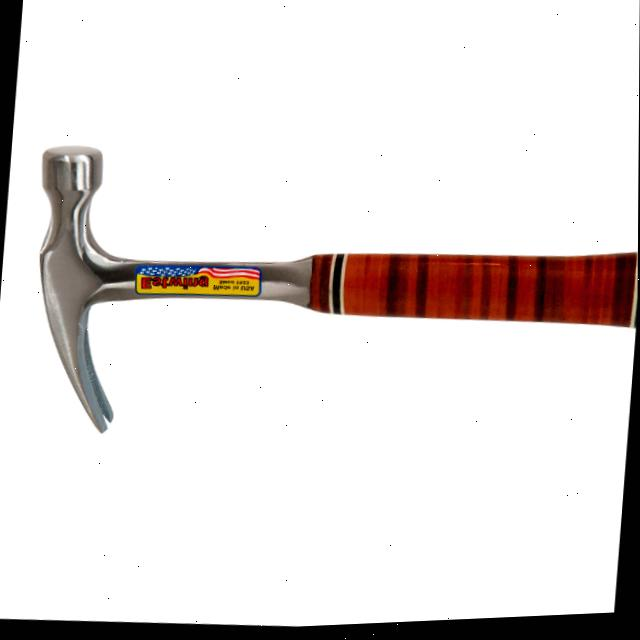hammer: (11, 114, 639, 479)
